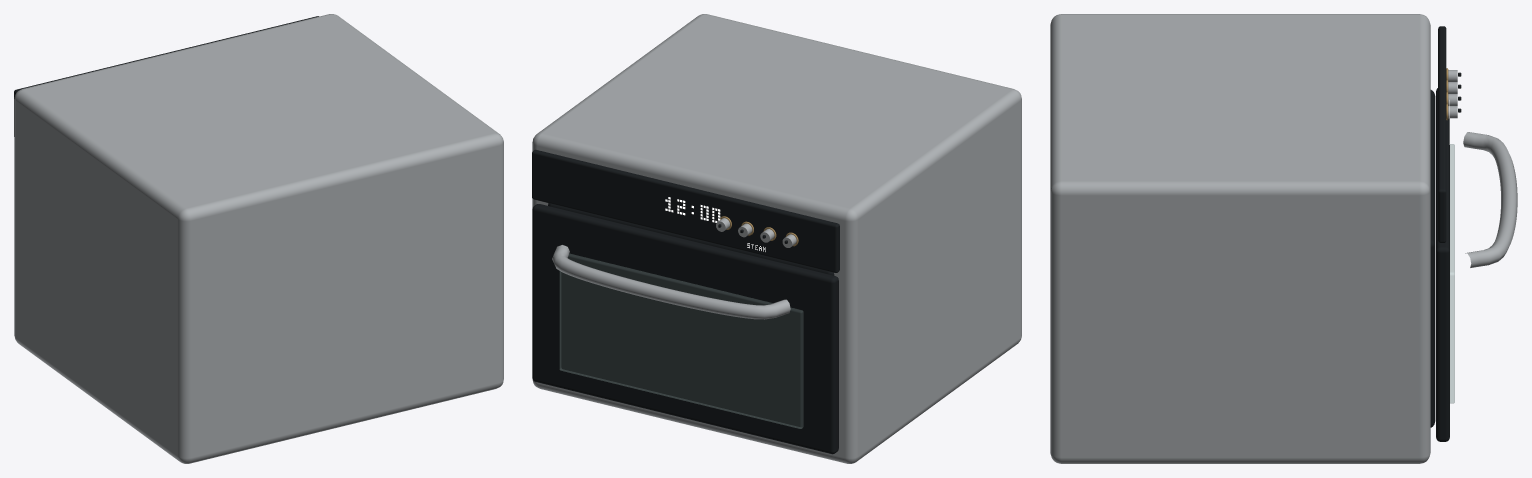
Rendered from luxury-combination-oven.glb.
The picture shows the model from 3 angles, left to right: view 1: azimuth 30°, elevation 25°; view 2: azimuth 150°, elevation 25°; view 3: azimuth 270°, elevation 25°; orthographic projection. The views are drawn at different scales.
Visible parts, largest first — view 1: steel_0; view 2: steel_0, glass_27; view 3: steel_0, glass_27.
Boxes of the visible parts, x1=… form: steel_0: x1=14, y1=14, x2=503, y2=463; steel_0: x1=532, y1=14, x2=1021, y2=463; glass_27: x1=559, y1=254, x2=803, y2=428; steel_0: x1=1050, y1=14, x2=1517, y2=463; glass_27: x1=1450, y1=144, x2=1454, y2=403.
Size of the model in its own units: 0.6 by 0.45 by 0.676.
4 materials, 4 textured.
